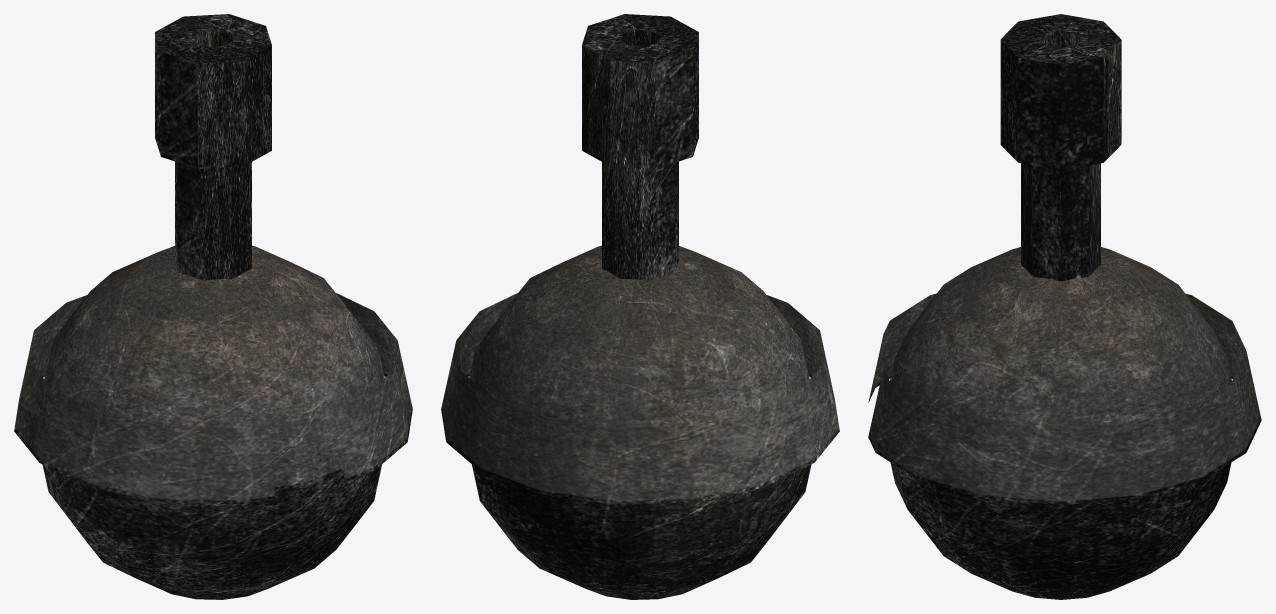
Rendered from Canon.FBX.
3 views of the same model, side by side, from view 1: azimuth 30°, elevation 25°; view 2: azimuth 150°, elevation 25°; view 3: azimuth 270°, elevation 25° (orthographic).
Parts seen in each view (by area): view 1: Interior, Enemy; view 2: Interior, Enemy; view 3: Interior, Enemy.
Boxes of the visible parts, x1=… form: Interior: x1=42, y1=14, x2=384, y2=599; Enemy: x1=14, y1=293, x2=412, y2=504; Interior: x1=469, y1=14, x2=811, y2=599; Enemy: x1=441, y1=293, x2=839, y2=504; Interior: x1=890, y1=14, x2=1231, y2=599; Enemy: x1=868, y1=293, x2=1261, y2=505.
Size of the model in its own units: 201 by 301 by 197.
Materials: 1 (1 with a texture image).
